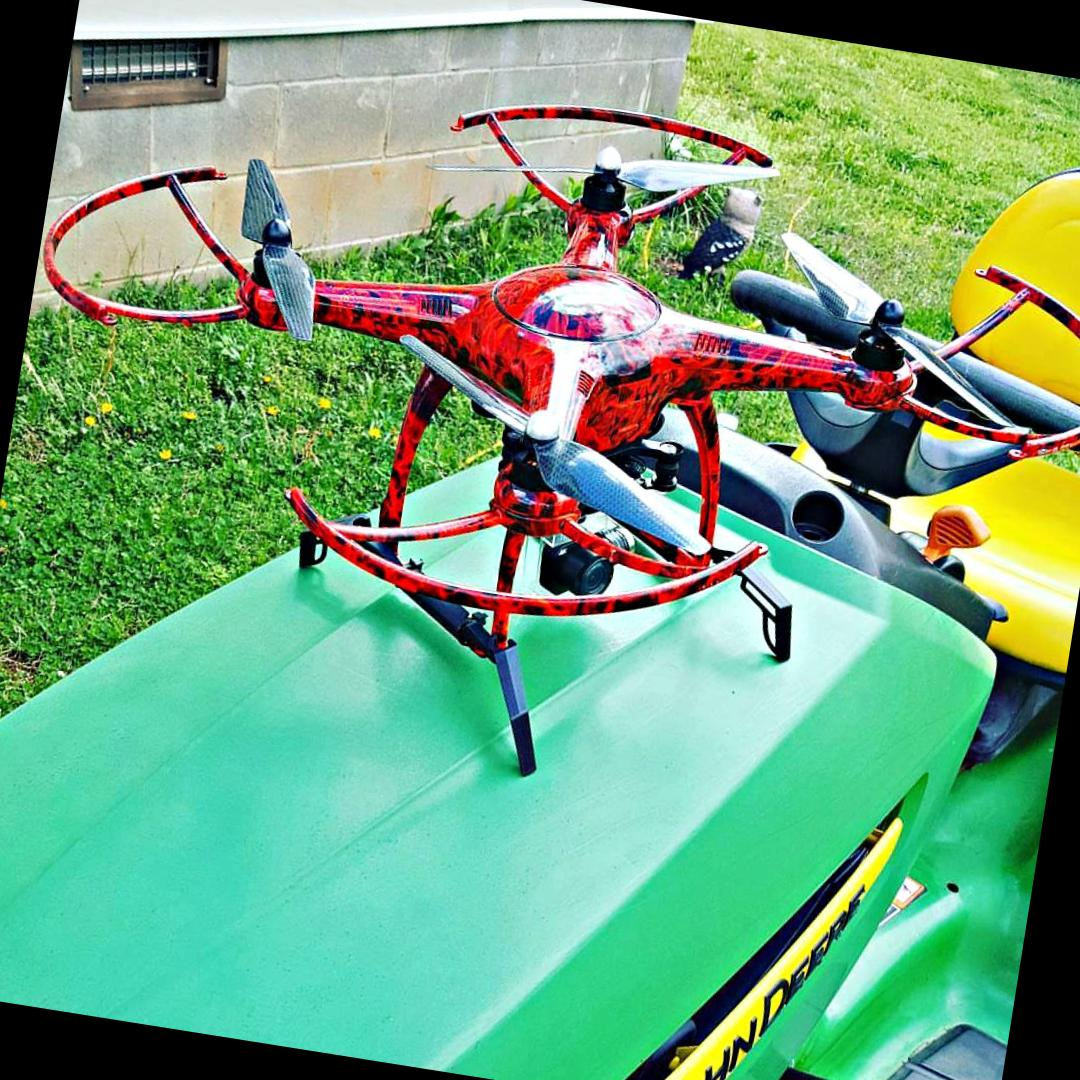drone: (10, 42, 1080, 790)
